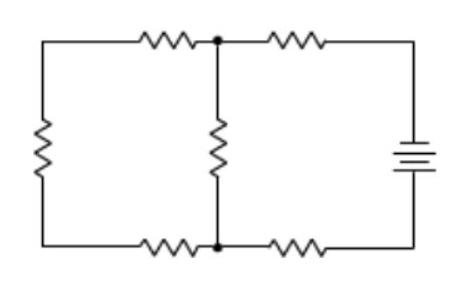Battery: (356, 126, 441, 195)
